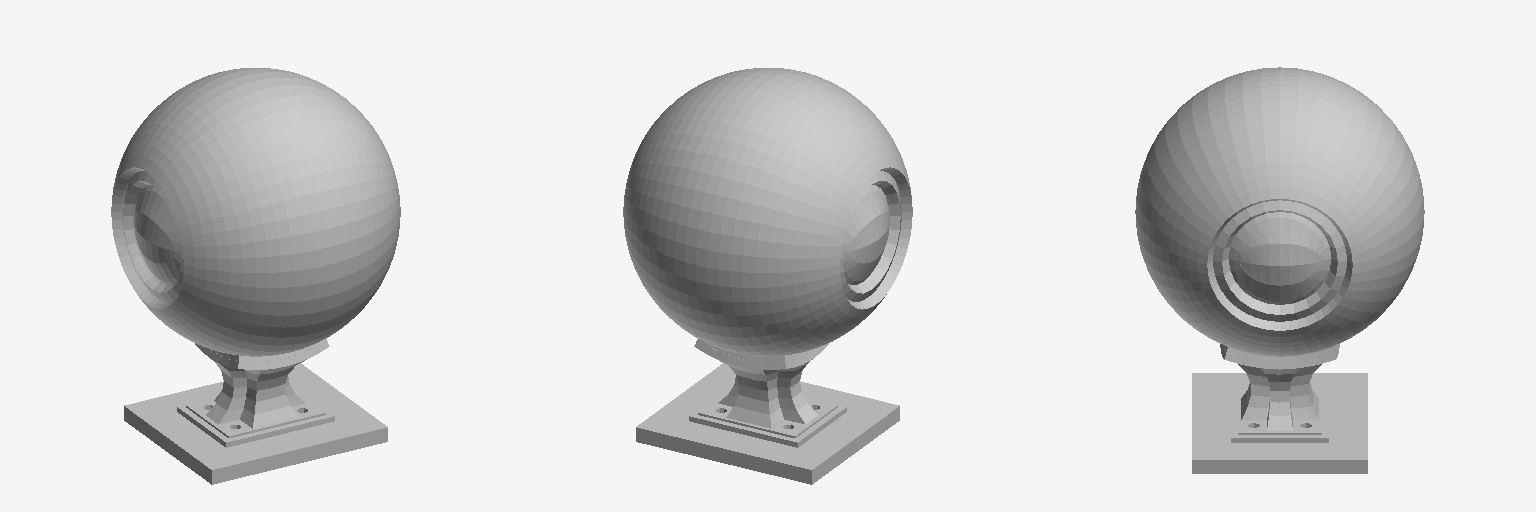
File: shaderball.obj
The picture shows the model from 3 angles: view 1: azimuth 30°, elevation 25°; view 2: azimuth 150°, elevation 25°; view 3: azimuth 270°, elevation 25°; orthographic projection.
Parts seen in each view (by area): view 1: shellgrp, pedestalgrp, coregrp; view 2: shellgrp, pedestalgrp, coregrp; view 3: shellgrp, pedestalgrp, coregrp.
Boxes of the visible parts, <box> form: shellgrp: <box>111,68,400,357</box>; pedestalgrp: <box>124,339,387,484</box>; coregrp: <box>123,171,183,301</box>; shellgrp: <box>623,68,912,357</box>; pedestalgrp: <box>636,339,899,484</box>; coregrp: <box>840,171,900,301</box>; shellgrp: <box>1135,67,1424,357</box>; pedestalgrp: <box>1192,344,1367,473</box>; coregrp: <box>1213,200,1346,321</box>.
Size of the model in its own units: 0.4793 by 0.7208 by 0.5399.